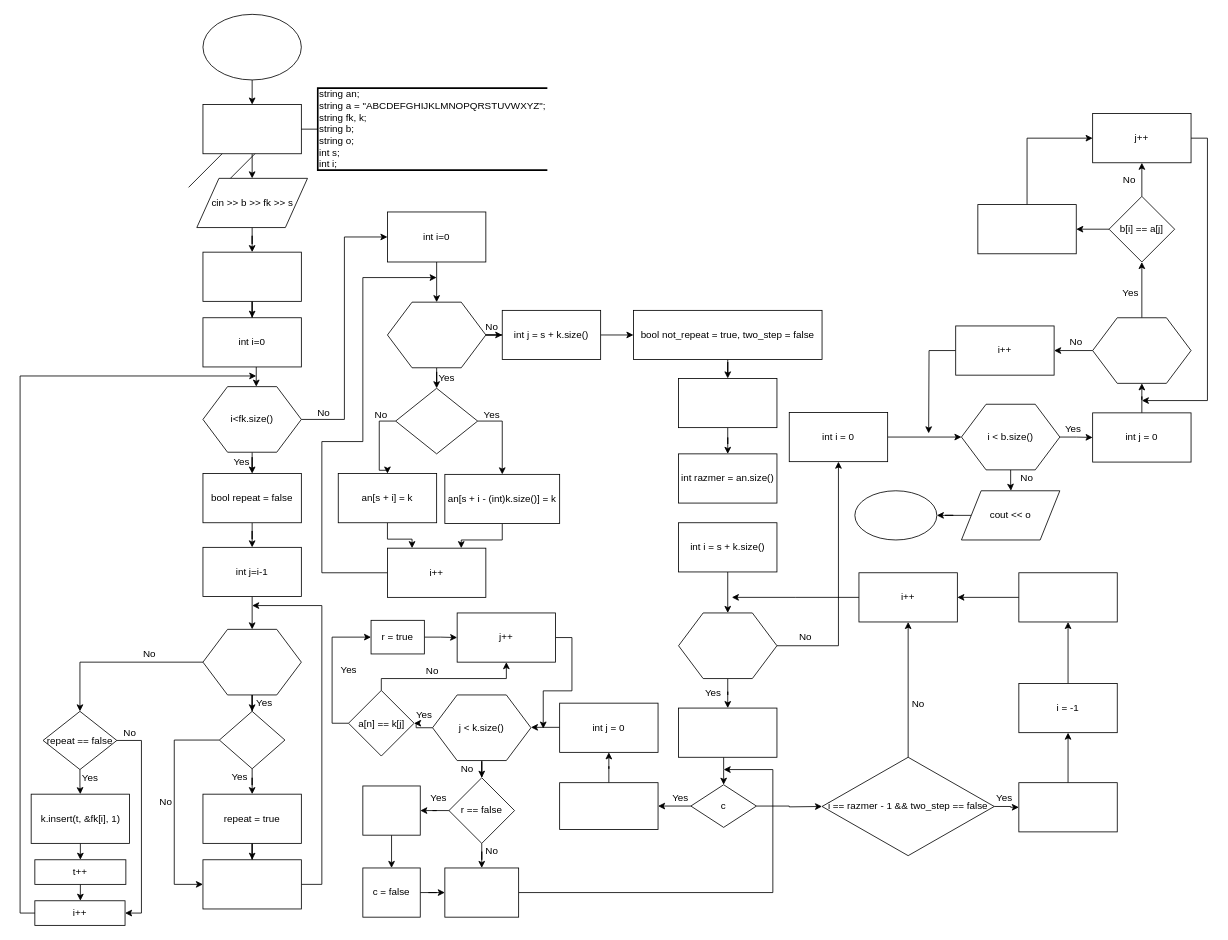
The diagram is 1228 pixels wide and 940 high, and some of its shapes have lost their labels. Each missing label, with the box of its shape:
an[i] = a: (362, 785, 420, 835)
bool c = true: (678, 707, 777, 757)
bool r = false: (559, 782, 658, 829)
fk[i] == fk[j]: (219, 711, 285, 769)
i < k.size(): (387, 301, 486, 368)
i < razmer: (678, 612, 777, 679)
int n = 0: (678, 378, 777, 428)
j < a.size(): (1092, 317, 1191, 383)
j--: (202, 859, 301, 909)
j>=0: (202, 629, 301, 695)
n++: (444, 867, 519, 917)
o = b; an = a; int t = 0;: (202, 251, 301, 301)
o[i] = an: (977, 204, 1076, 254)
razmer = s: (1018, 572, 1117, 622)
s + i >= a.size(): (395, 387, 478, 454)
two_step = true: (1018, 782, 1117, 832)
Конец: (854, 490, 937, 540)
Начало: (202, 14, 301, 80)
